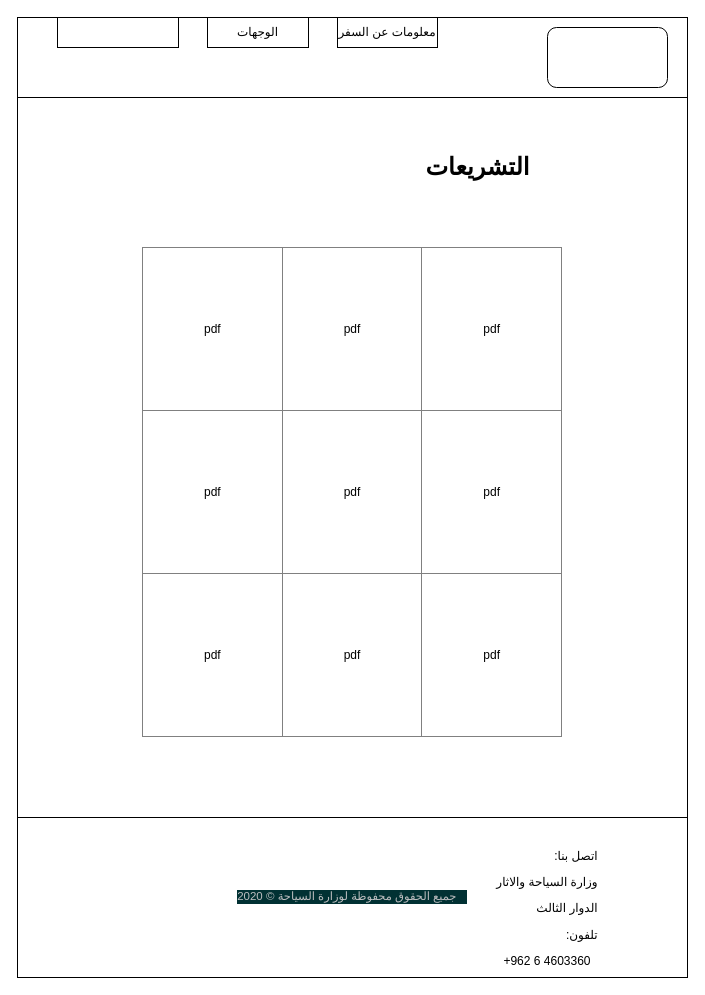
Some shapes in this 705 by 995 pixel diagram are drawn without their labels. Here are the shapes that lost their labels. From the top down, the box of each, then its label:
(56, 16, 178, 48): الضفحة الرئيسية
(546, 26, 668, 88): Logo وزارة السياحة والاثار
